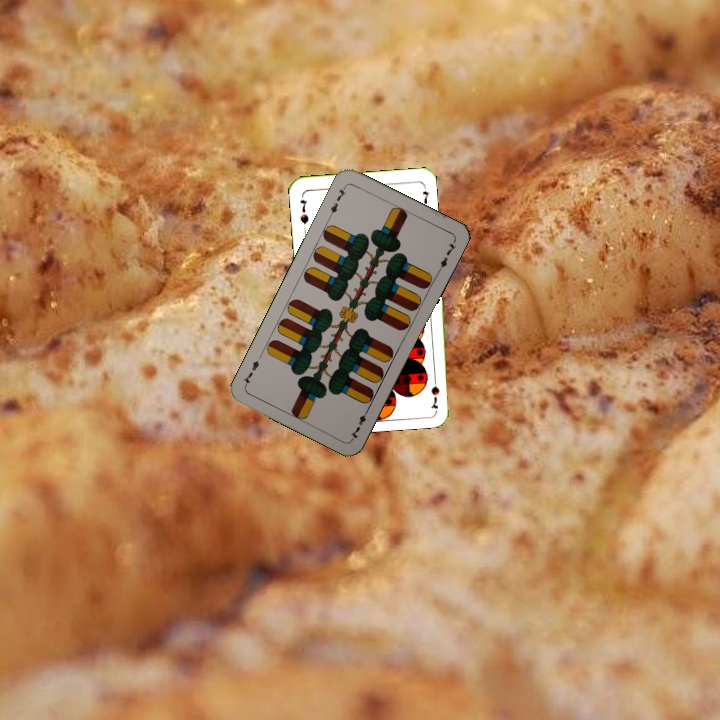E7: (346, 404, 372, 442), (325, 182, 349, 219)
S7: (427, 371, 442, 411), (296, 196, 311, 226)
